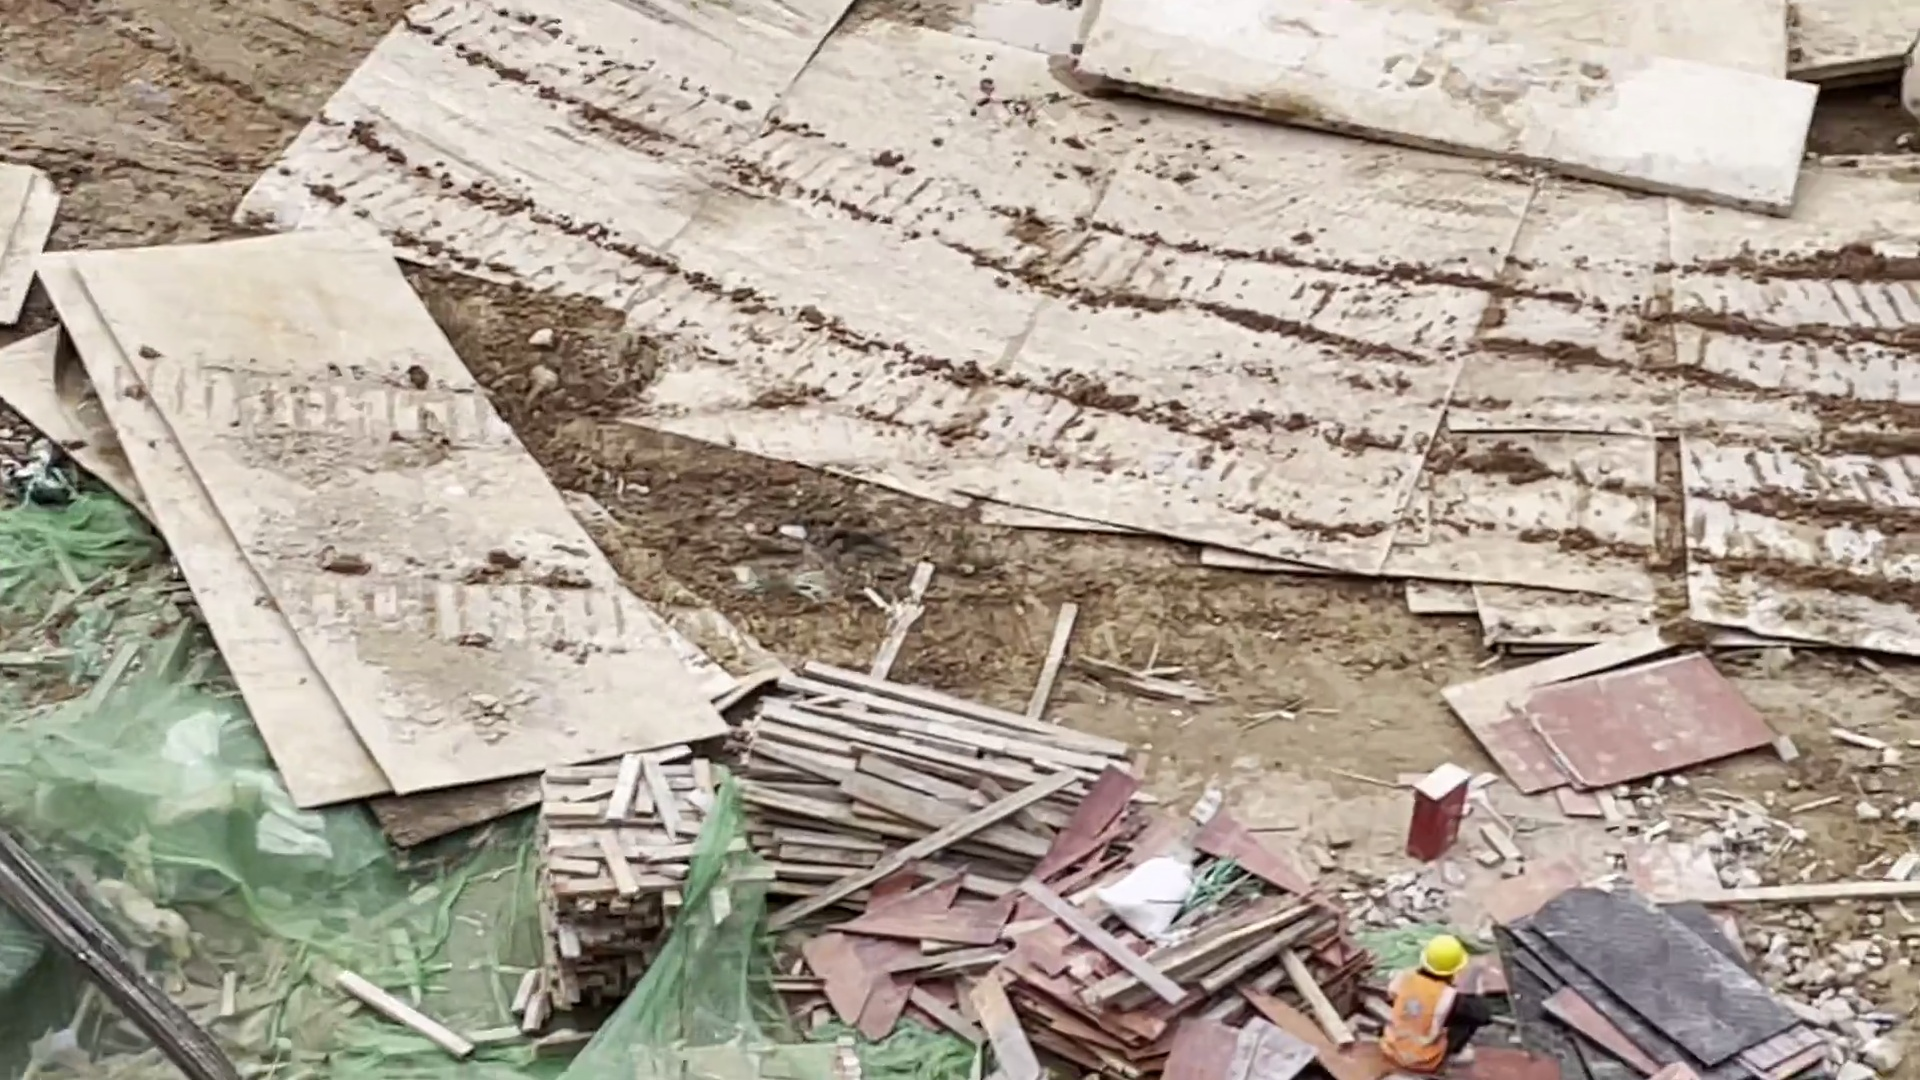helmet: (1419, 934, 1469, 976)
person: (1382, 931, 1499, 1076)
vest: (1384, 971, 1452, 1069)
wood: (535, 660, 1110, 967)
